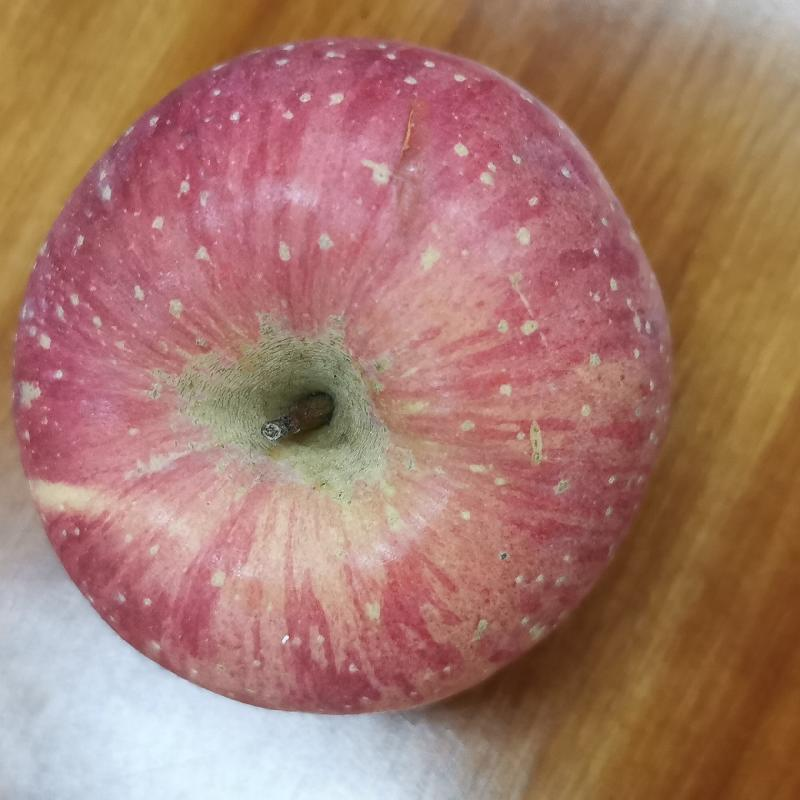apples: (21, 42, 674, 719)
